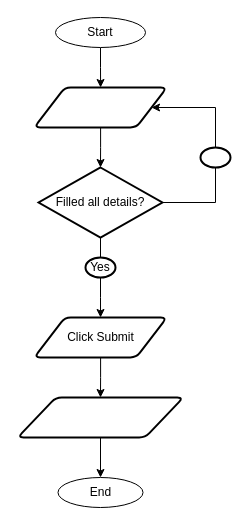
Image size: 249x525. Some labels were removed from this diagram. Here are the shapes that lost their labels. From the top down, the centre of each, then its label:
(x=100, y=107): Fill in all details
(x=215, y=157): No
(x=100, y=417): Prediction displayed
